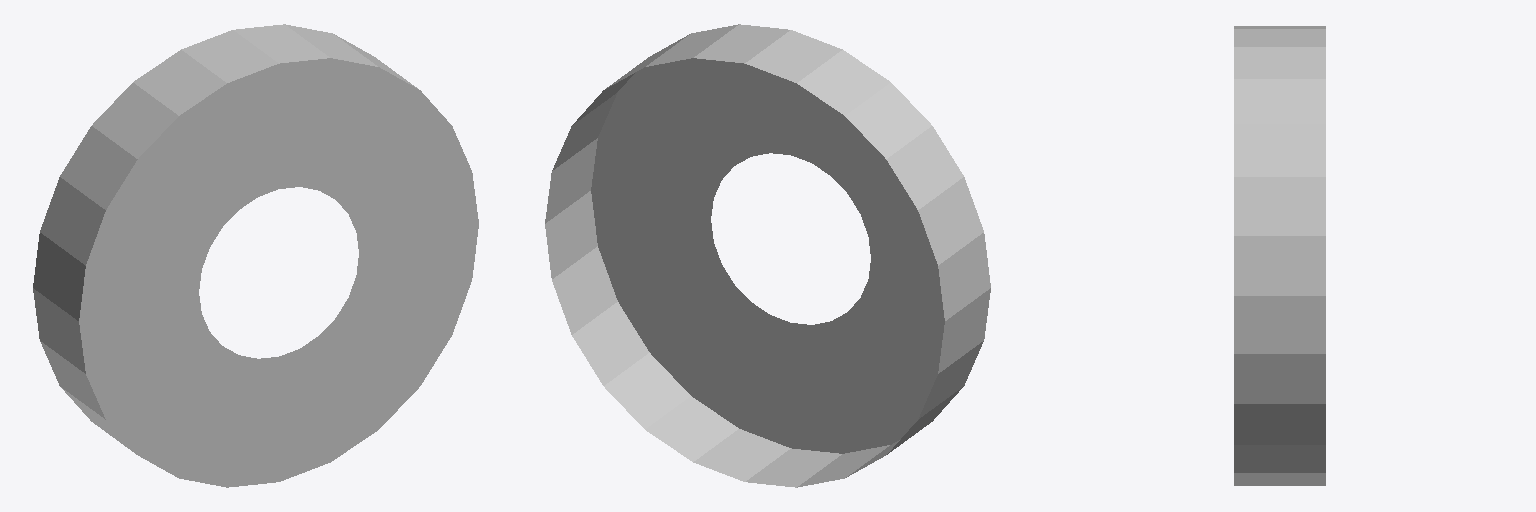
File: original-8.obj
3 renders of one model, left to right at view 1: azimuth 30°, elevation 25°; view 2: azimuth 150°, elevation 25°; view 3: azimuth 270°, elevation 25°, orthographic.
Parts seen in each view (by area): view 1: #ID259; view 2: #ID259; view 3: #ID259.
Boxes of the visible parts, x1,y1,x2,y2 form: #ID259: [33, 24, 478, 487]; #ID259: [545, 24, 990, 487]; #ID259: [1234, 26, 1325, 485].
Size of the model in its own units: 0.1922 by 0.1922 by 0.0384.